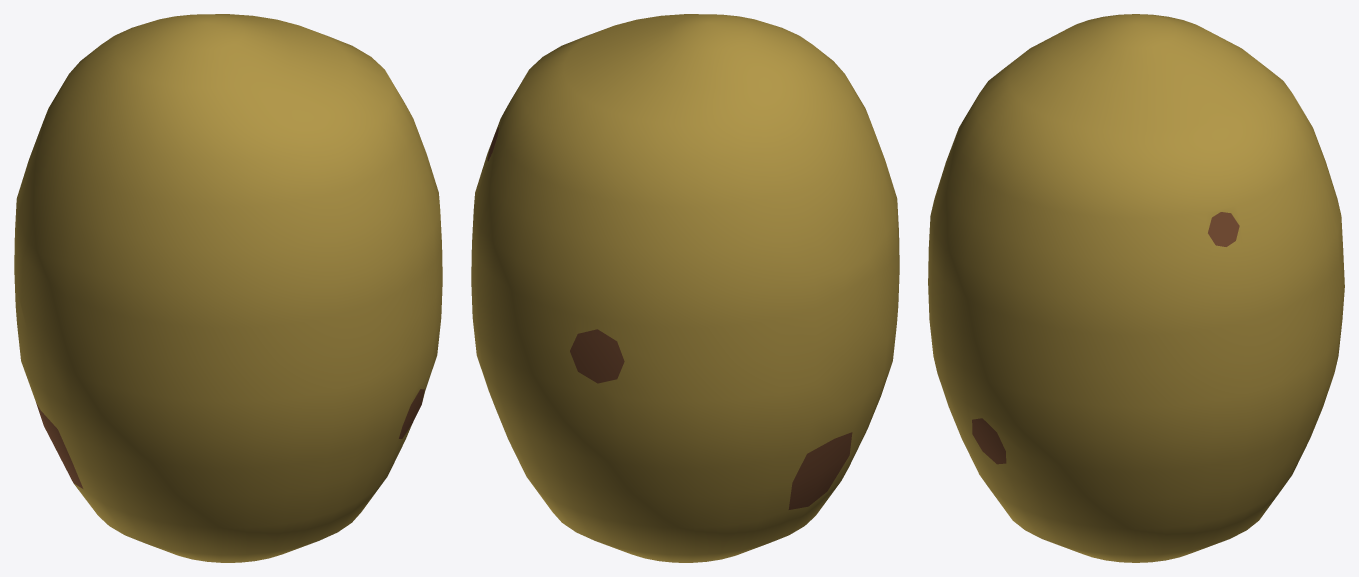
Rendered from Potato.fbx.
The picture shows the model from 3 angles, left to right: view 1: azimuth 30°, elevation 25°; view 2: azimuth 150°, elevation 25°; view 3: azimuth 270°, elevation 25°; orthographic projection. The views are drawn at different scales.
Visible parts, largest first — view 1: Potato; view 2: Potato; view 3: Potato.
Part boxes in pixels (x1=…): Potato: x1=14, y1=14, x2=442, y2=562; Potato: x1=471, y1=14, x2=899, y2=562; Potato: x1=928, y1=14, x2=1344, y2=562.
Bounding box in the file's own units: 468 × 630 × 467.
